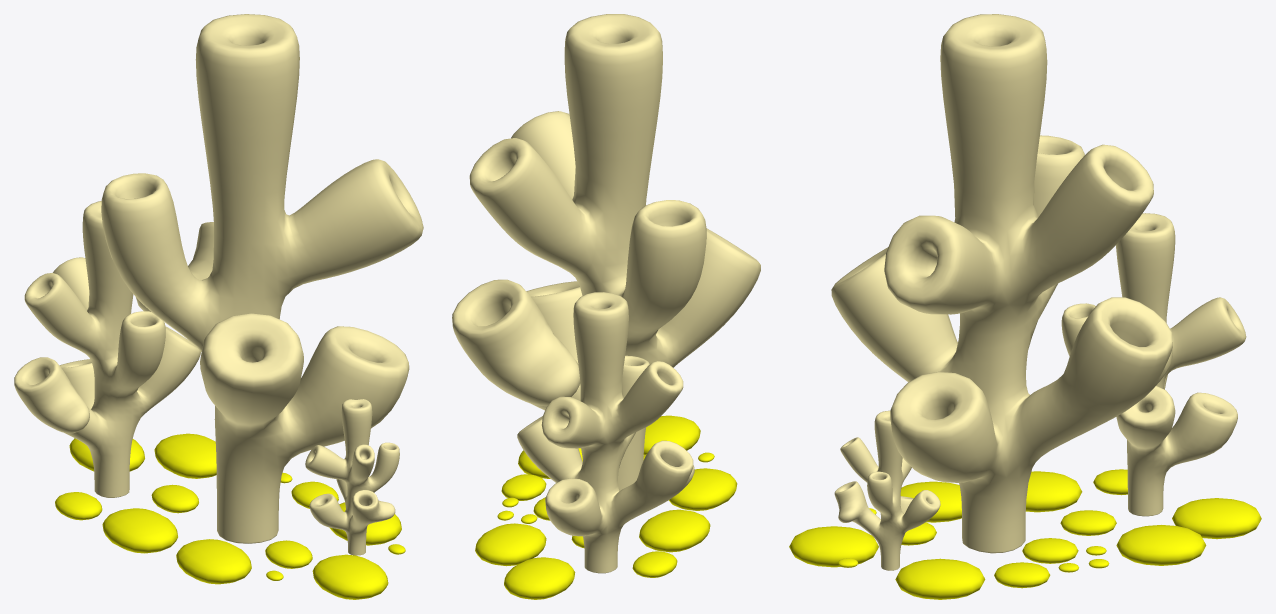
The model's file is coral-1.fbx.
The picture shows the model from 3 angles, left to right: view 1: azimuth 30°, elevation 25°; view 2: azimuth 150°, elevation 25°; view 3: azimuth 270°, elevation 25°; orthographic projection. The views are drawn at different scales.
Visible parts, largest first — view 1: Cube.019 (×2); view 2: Cube.019 (×2); view 3: Cube.019 (×2).
Part boxes in pixels (bbox=[...]): Cube.019 (×2): bbox=[14, 14, 423, 599]; Cube.019 (×2): bbox=[452, 14, 760, 599]; Cube.019 (×2): bbox=[789, 14, 1261, 599].
Size of the model in its own units: 1013 by 1657 by 1376.
